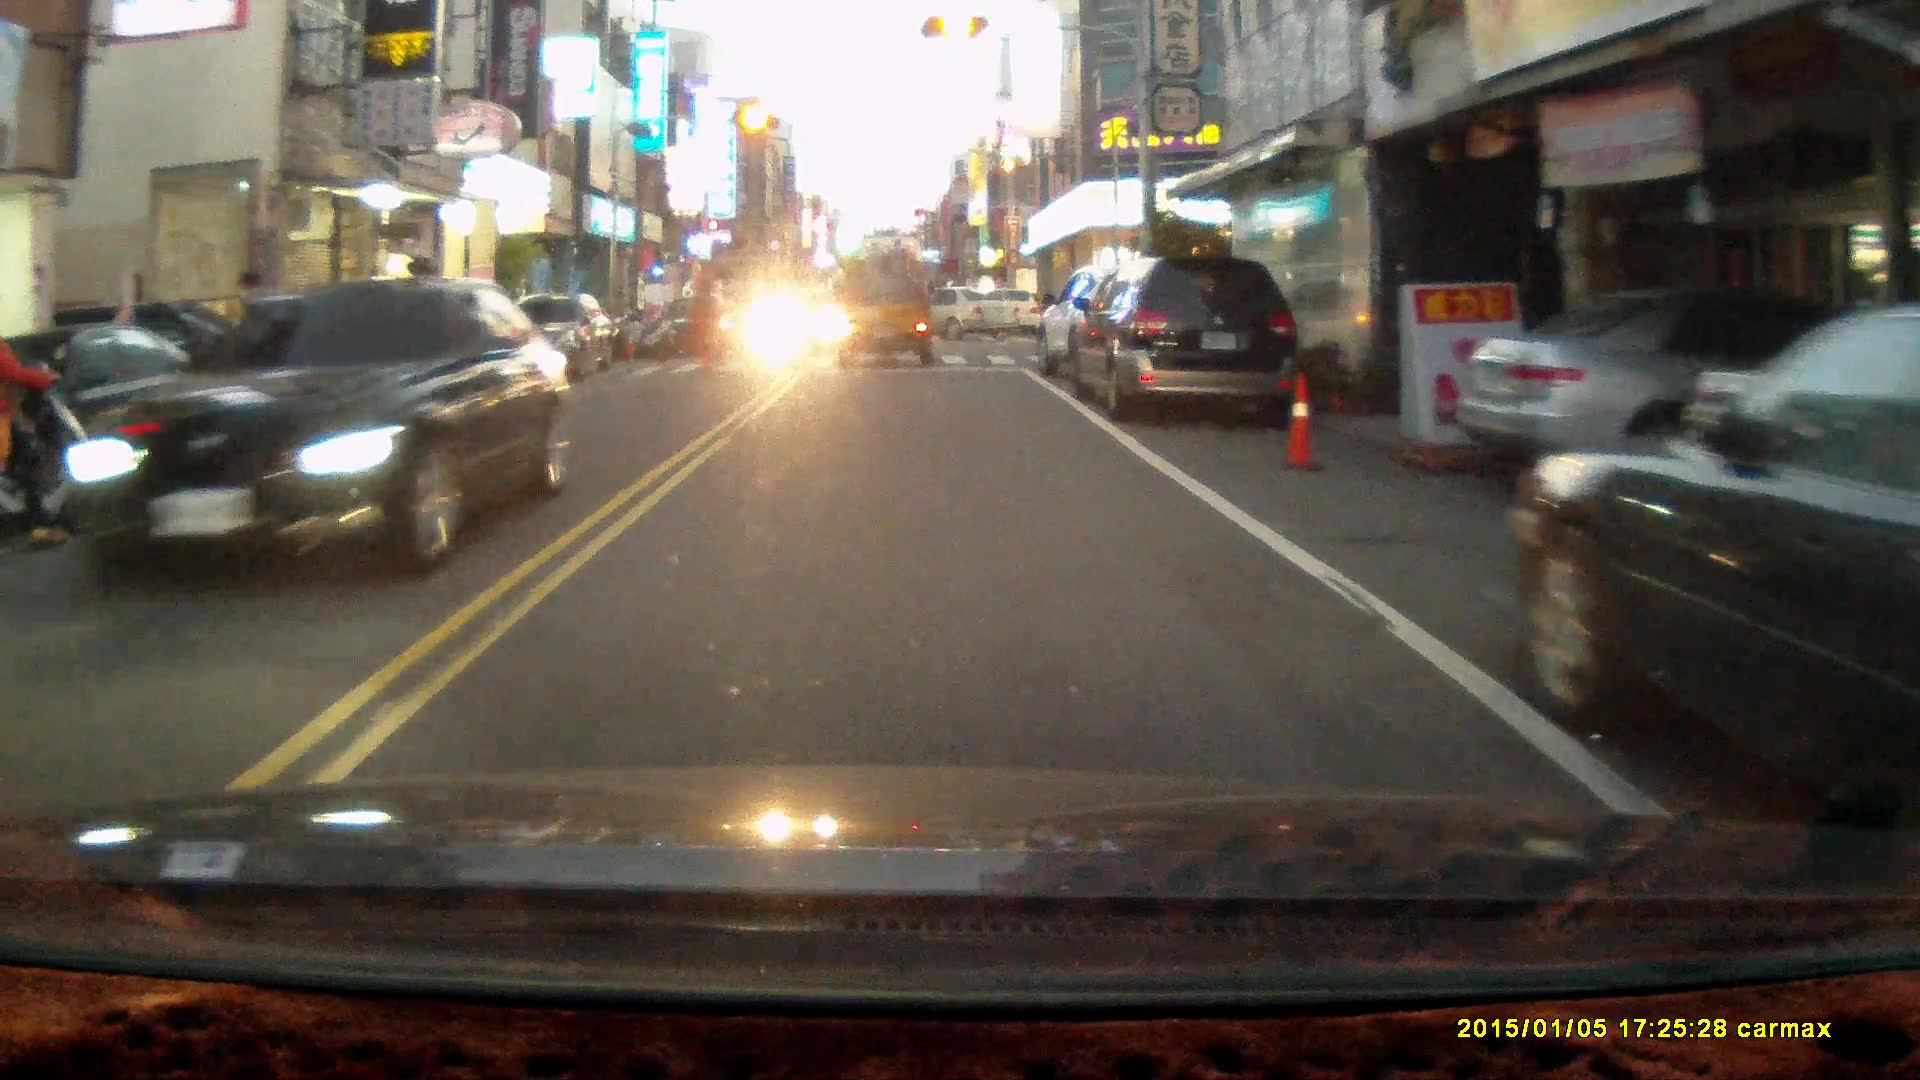pedestrian: (688, 274, 724, 375)
rider: (0, 313, 111, 552)
vehicle: (1513, 307, 1920, 819), (41, 276, 575, 586), (1453, 291, 1920, 507), (1067, 252, 1305, 426), (1683, 368, 1920, 504), (1036, 258, 1209, 401), (834, 257, 938, 370), (867, 285, 1014, 343), (655, 298, 744, 360)
